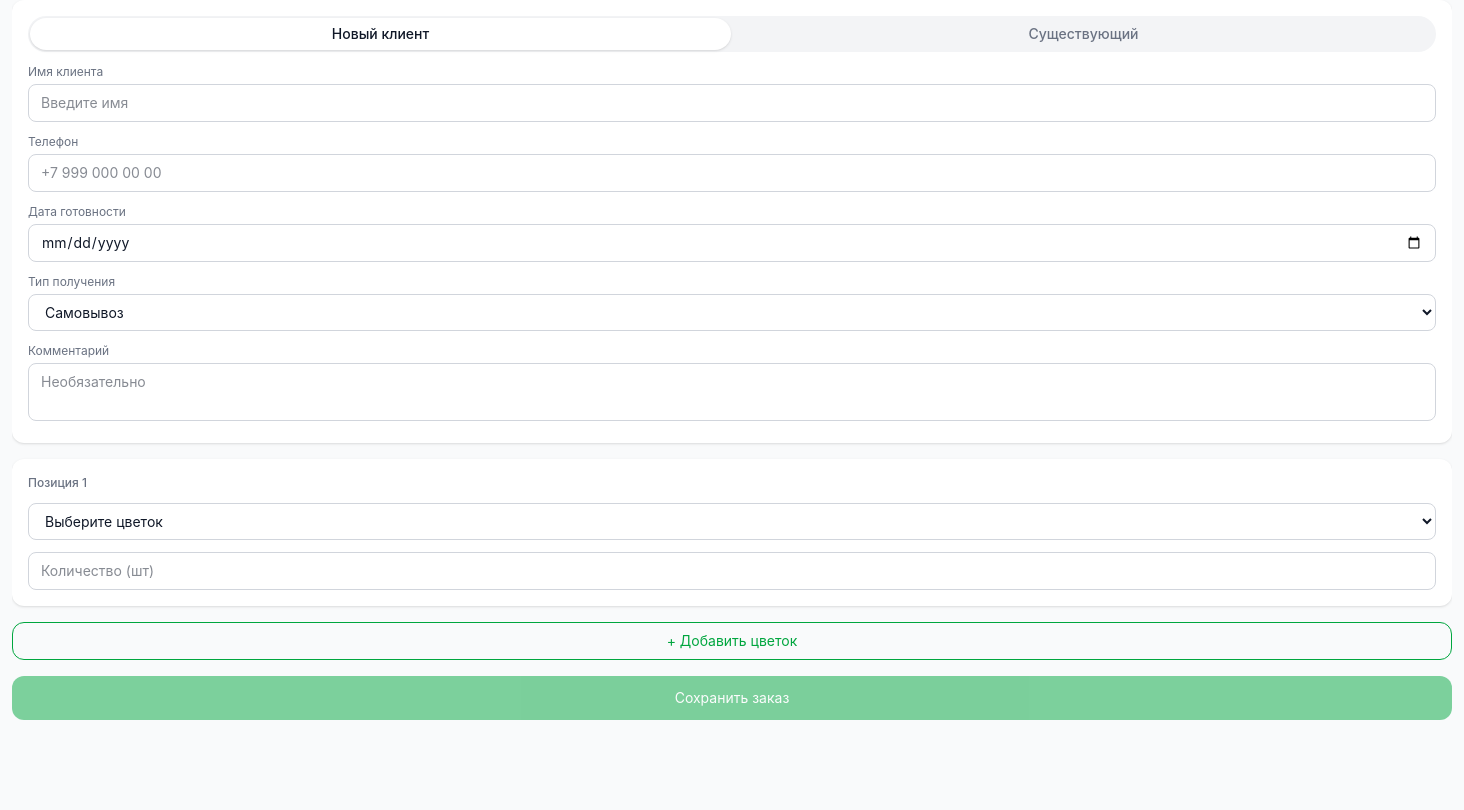
Test: NewOrderPage › показывает ошибку когда количество превышает остаток
Step 1. Select "Роза (свободно: 8)" in the dropdown below "Позиция" → (732, 522), box [28, 503, 1436, 540]
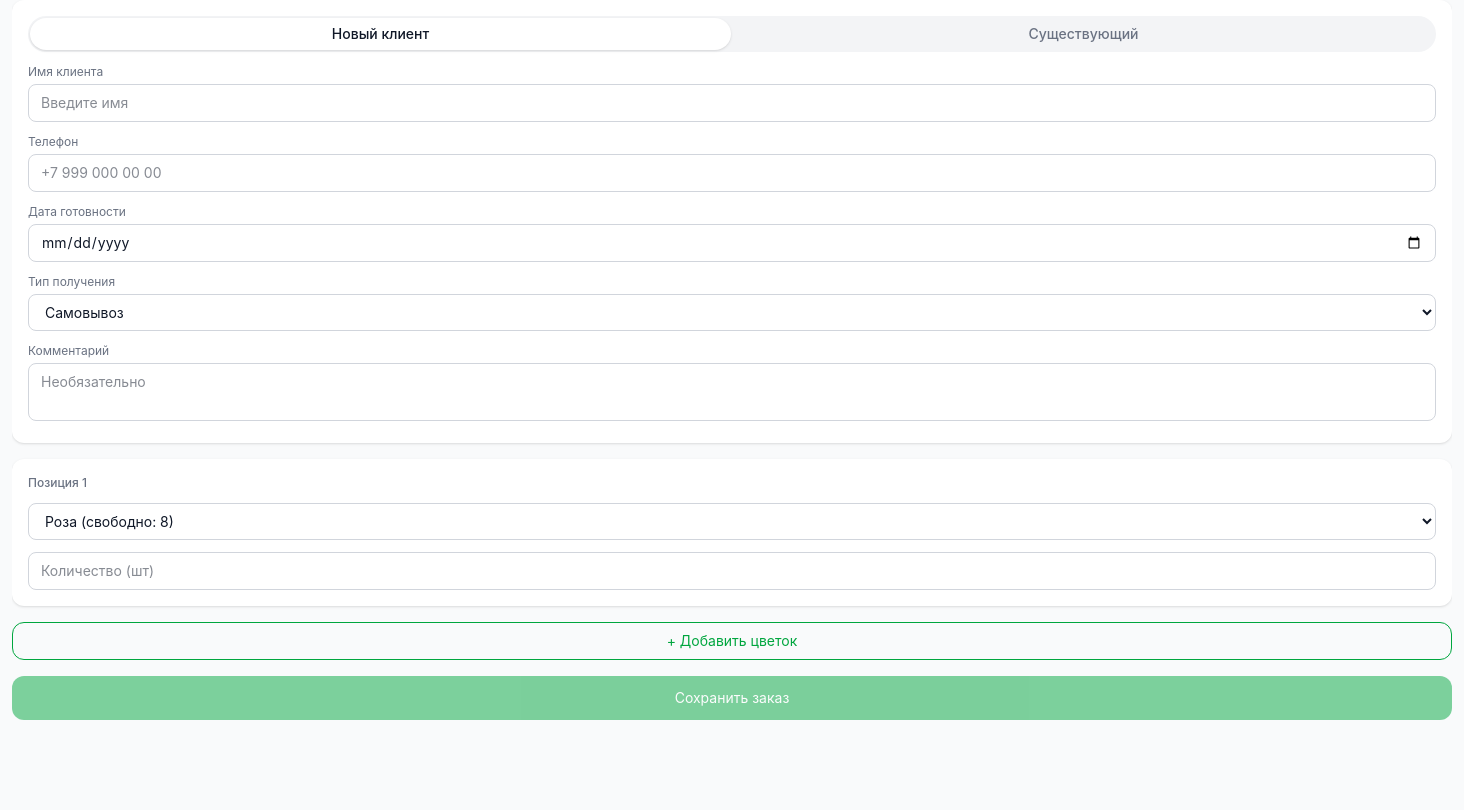
Step 2. Type "9" into the number field with placeholder "Количество (шт)" → (732, 571), box [28, 552, 1436, 590]
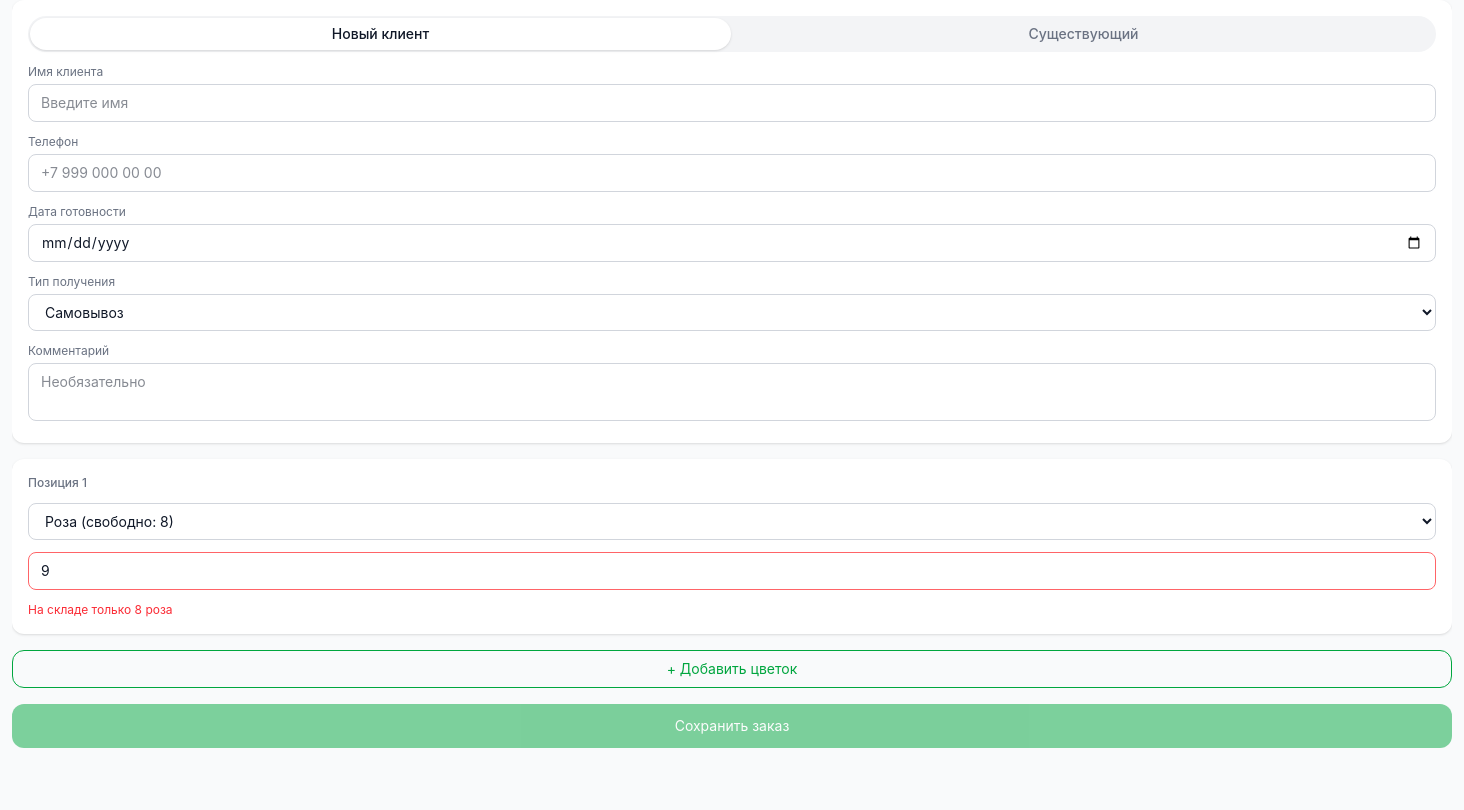
Expected: the text "На складе только 8 роза" is shown, [28, 602, 173, 617]
